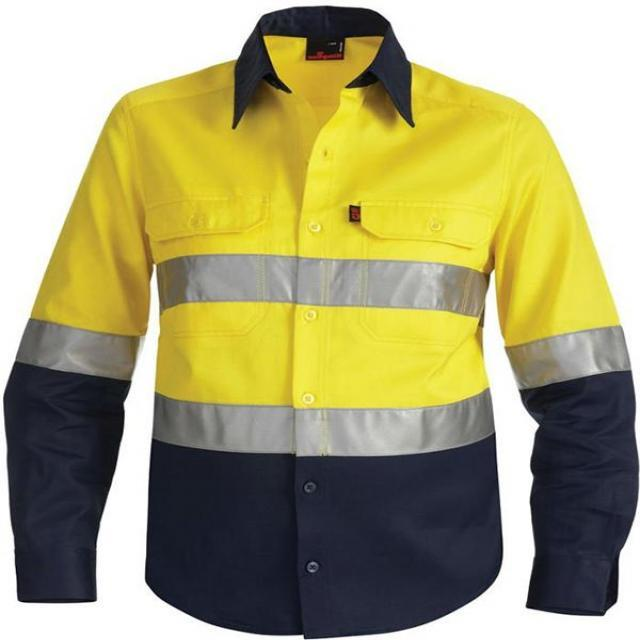reflective_jacket: (0, 4, 624, 639)
